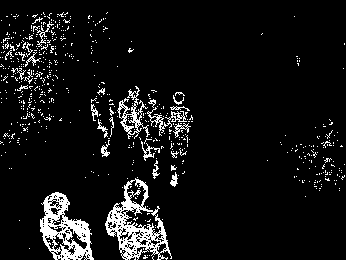person: (103, 178, 174, 260), (41, 191, 92, 260), (167, 91, 193, 185), (140, 90, 161, 179), (90, 82, 114, 157), (117, 85, 142, 148)
